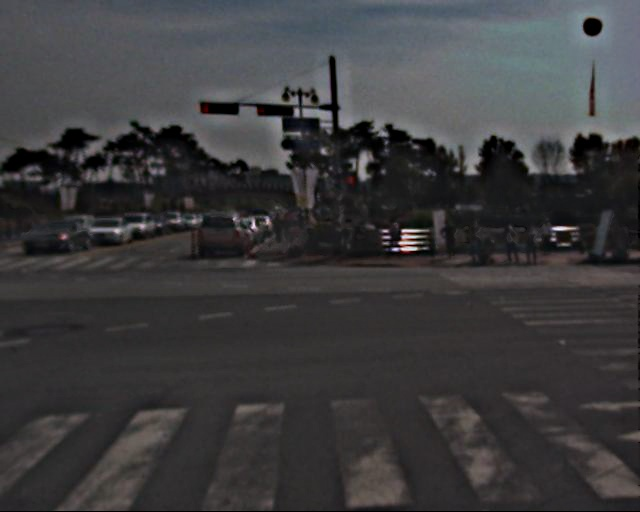person: (270, 209, 314, 245), (387, 213, 408, 264), (469, 214, 490, 265), (329, 209, 349, 258), (524, 218, 544, 266), (540, 214, 559, 260), (502, 220, 520, 264), (442, 221, 458, 261)
